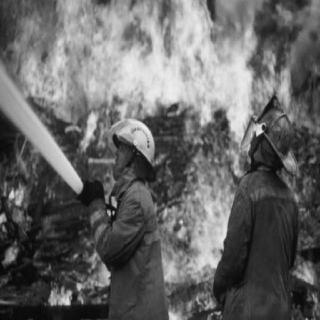Fire: (1, 0, 318, 316)
other: (113, 109, 161, 162)
